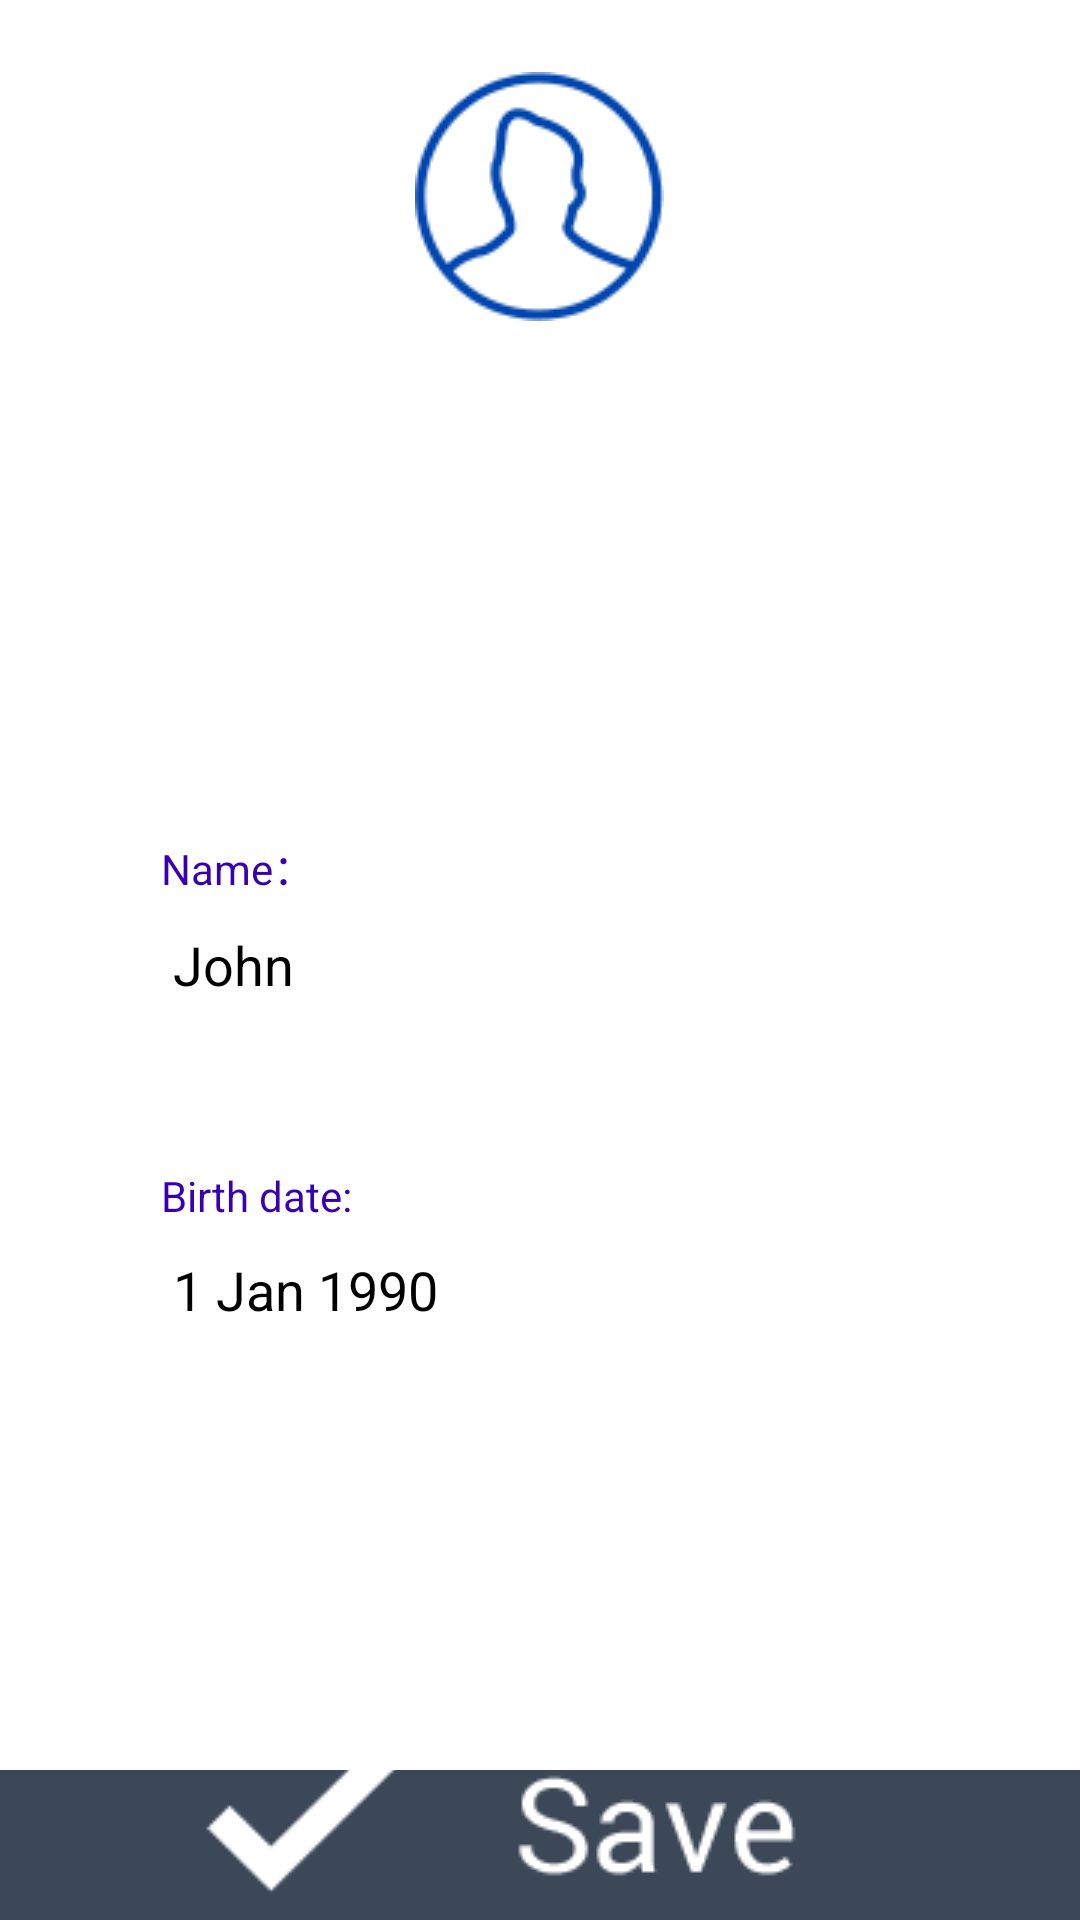

Icon bounding boxes for this 1080px×1920px phone screenshot, format [x1, y1, x2, y2]:
profile: [415, 72, 664, 321]
